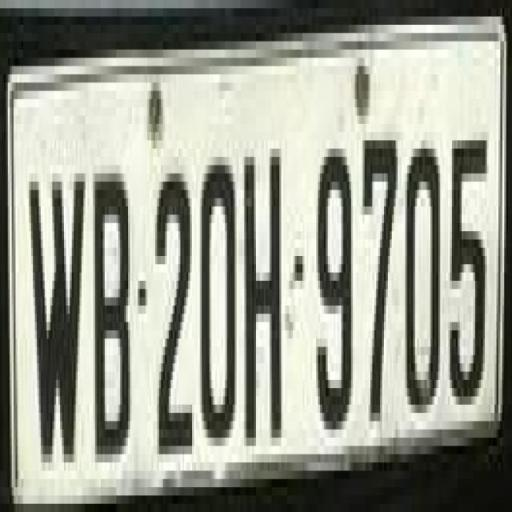number plate: (2, 16, 488, 512)
